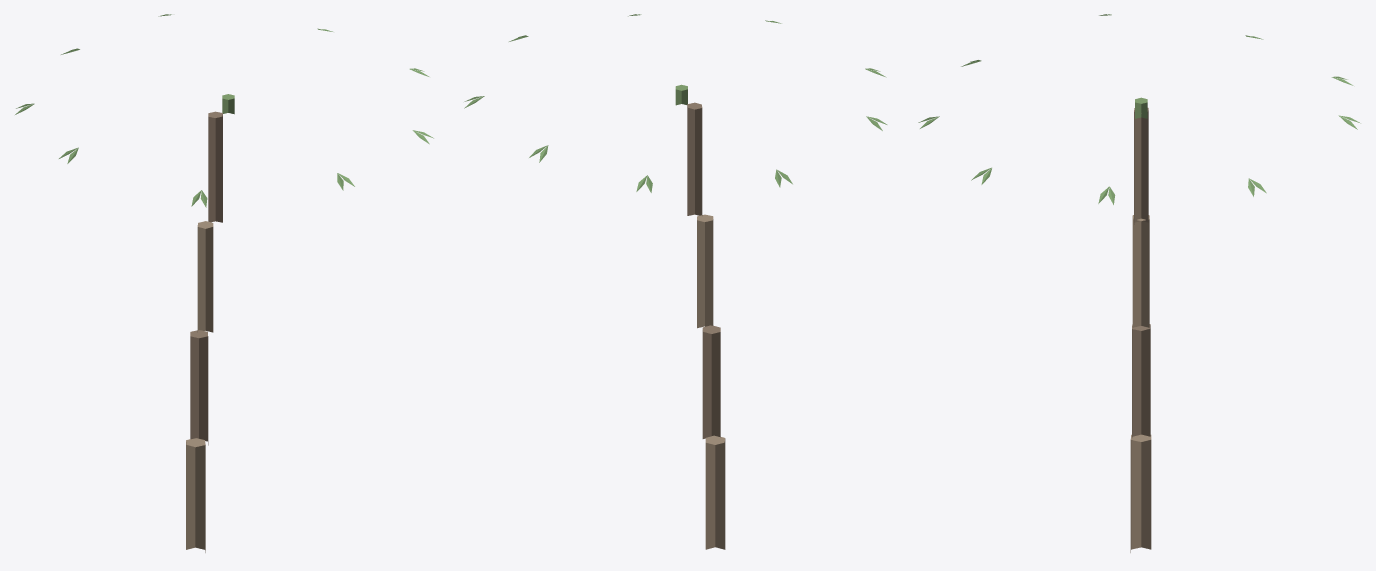
The model's file is shu.binglang@subadult__bloom.glb.
The picture shows the model from 3 angles, left to right: view 1: azimuth 30°, elevation 25°; view 2: azimuth 150°, elevation 25°; view 3: azimuth 270°, elevation 25°; orthographic projection. The views are drawn at different scales.
Visible parts, largest first — view 1: shu.binglang@subadult__bloom; view 2: shu.binglang@subadult__bloom; view 3: shu.binglang@subadult__bloom.
Part boxes in pixels (x1=…): shu.binglang@subadult__bloom: x1=15, y1=14, x2=433, y2=552; shu.binglang@subadult__bloom: x1=464, y1=14, x2=887, y2=549; shu.binglang@subadult__bloom: x1=918, y1=14, x2=1360, y2=552.
Bounding box in the file's own units: 4.04 × 4.88 × 4.03.
